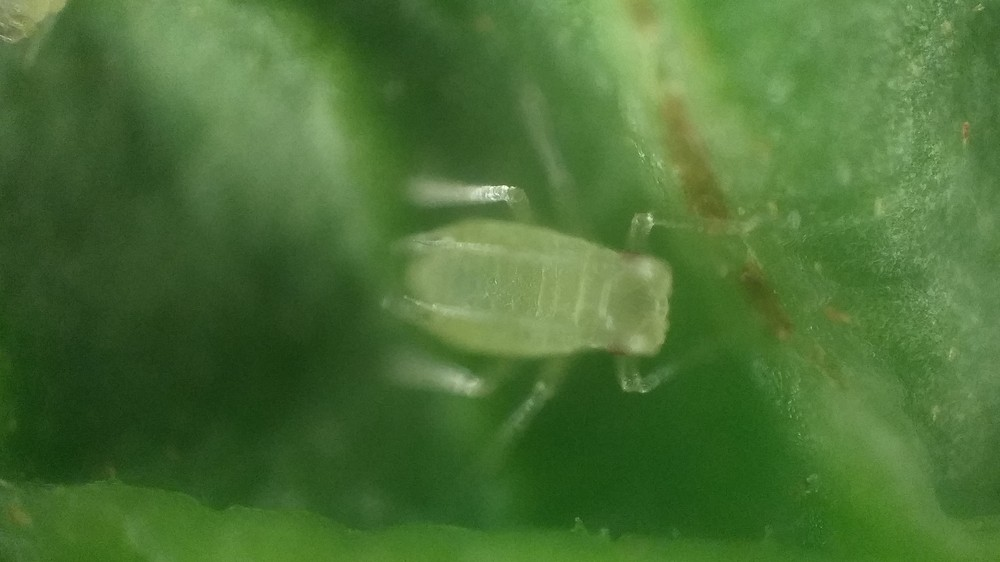Pulgon: (350, 136, 808, 482)
